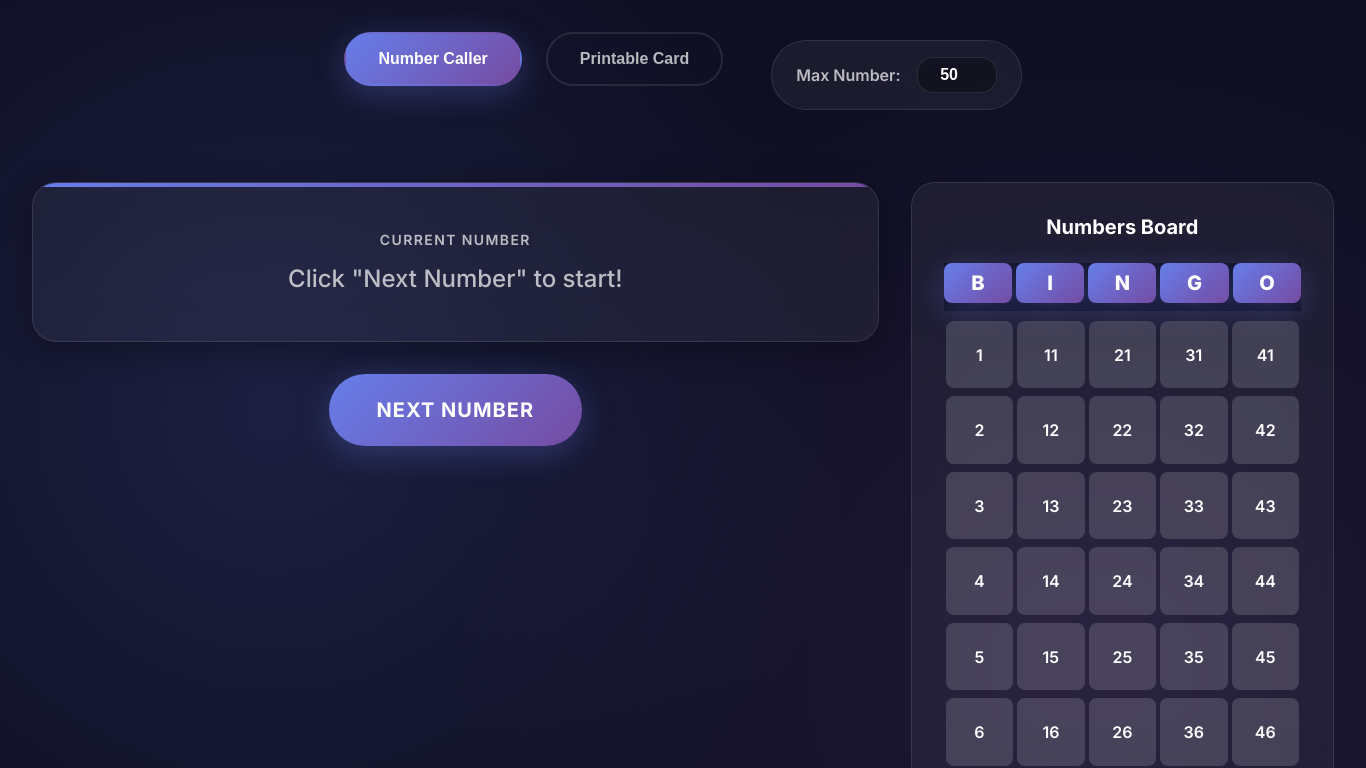
Test: Bingo Components › resets the game when Reset is clicked
The width and height of the screenshot is (1366, 768).
Click the button "Next Number".
click(455, 410)  # box [329,374,582,446]
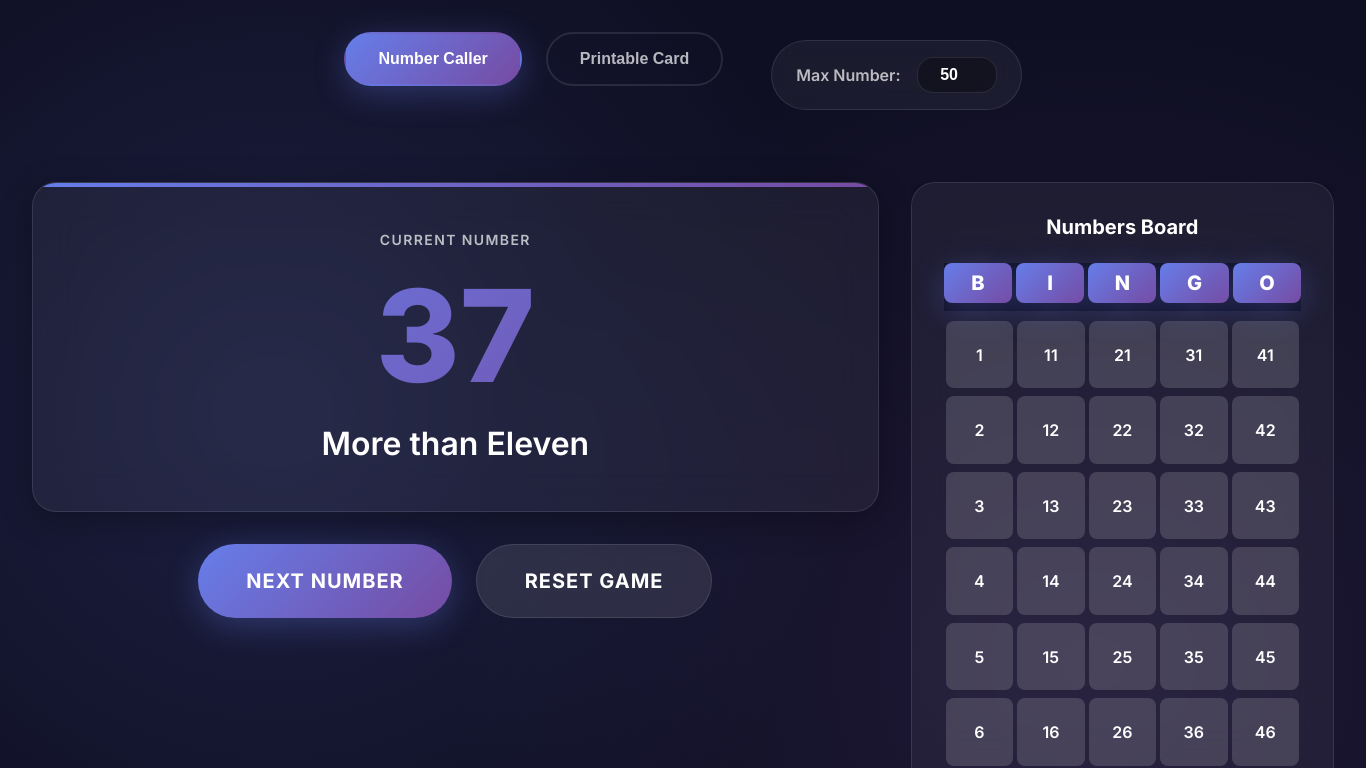
Click the button "Reset Game".
click(594, 581)  # box [476,544,712,618]
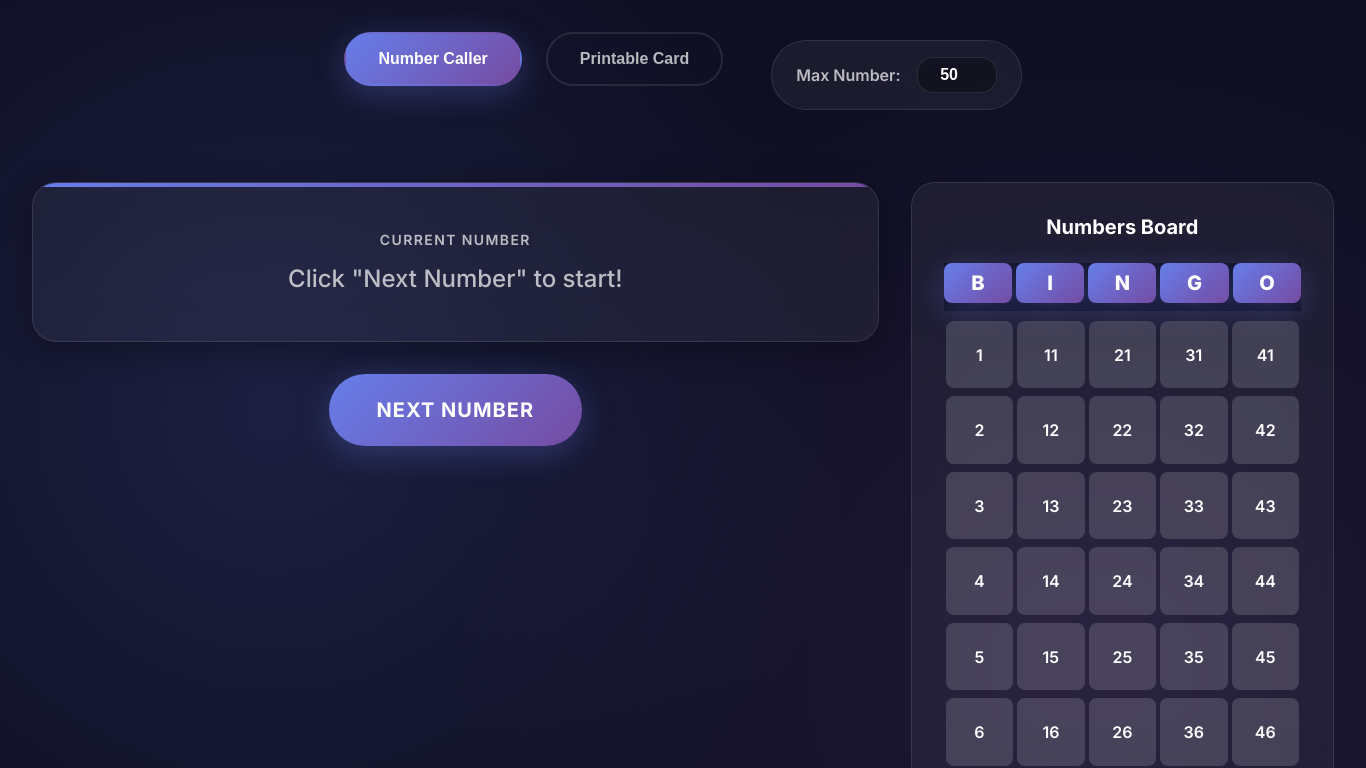
Result: the text "Click \"Next Number\" to start!" is shown at [288,264,623,293]
